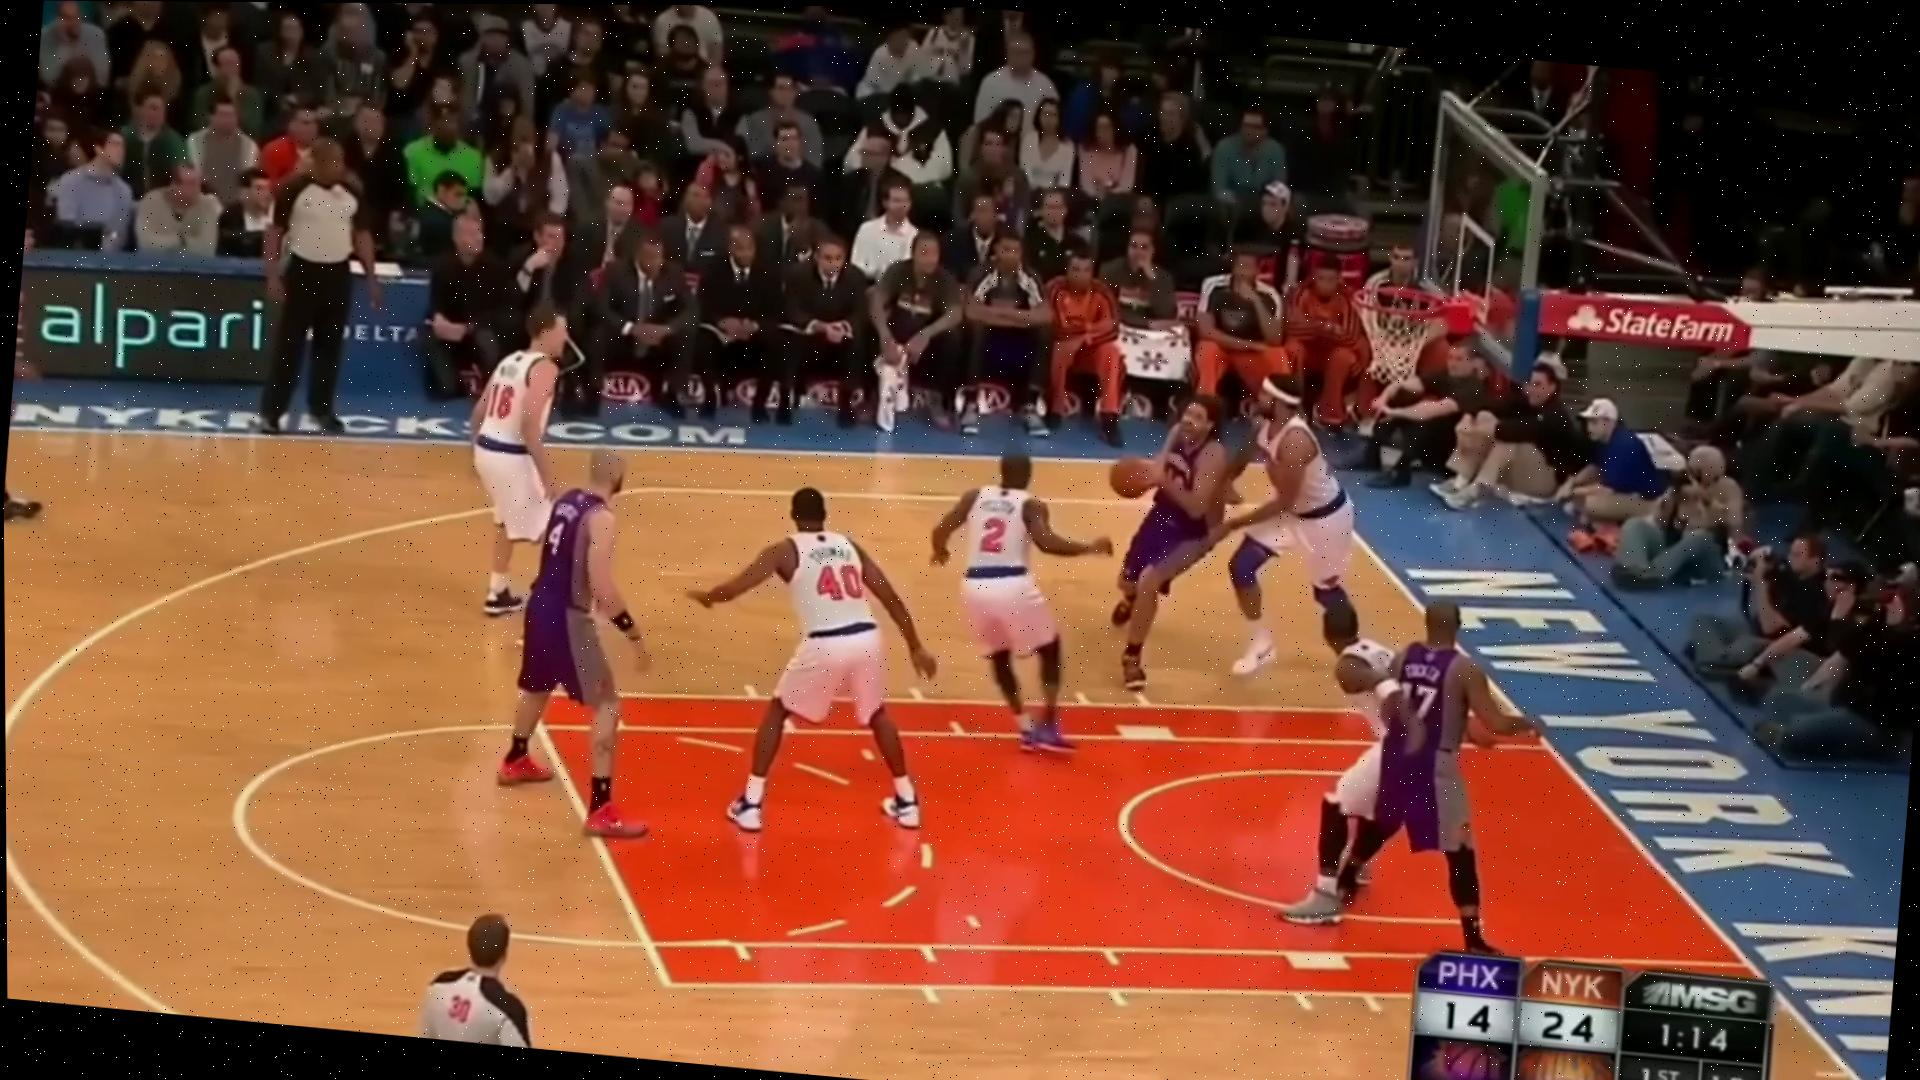no_foul: (1087, 353, 1404, 709)
